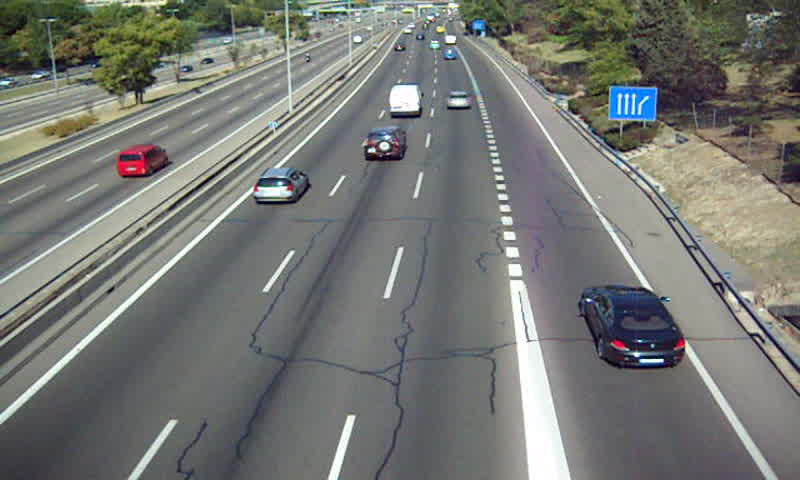car: (582, 284, 685, 367), (252, 167, 309, 204), (364, 126, 408, 163), (445, 90, 473, 110)
van: (389, 85, 423, 119)
